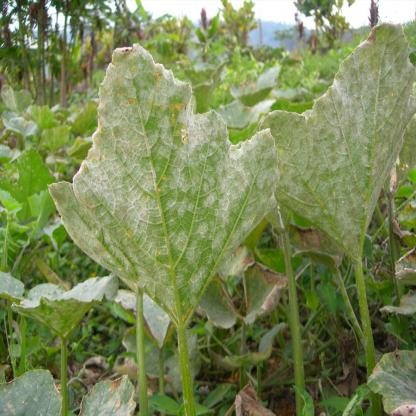Squash Powdery mildew leaf: (44, 40, 285, 320), (271, 22, 416, 255)
